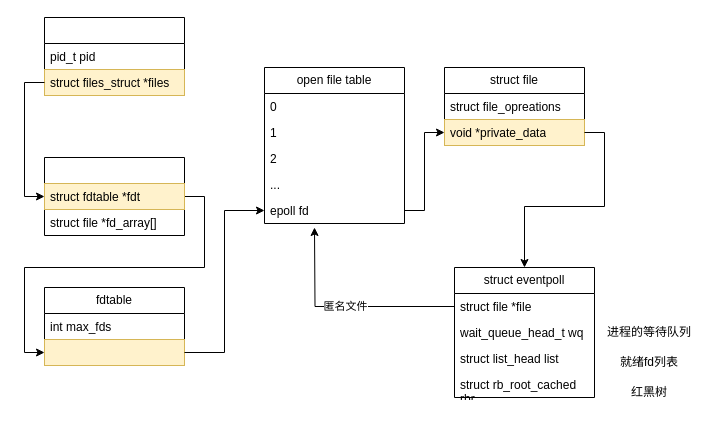
Image size: 722x425. Some labels were removed from this diagram. Here are the shapes that lost their labels. From the top down, the box of each, then its label:
(44, 16, 184, 96): task_struct
(44, 156, 184, 236): files_struct
(44, 338, 184, 366): struct file **fd
